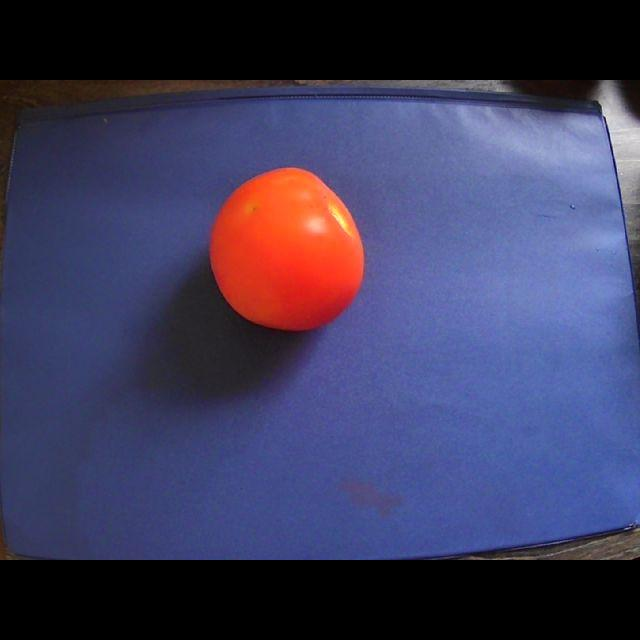tomate: (210, 168, 363, 331)
